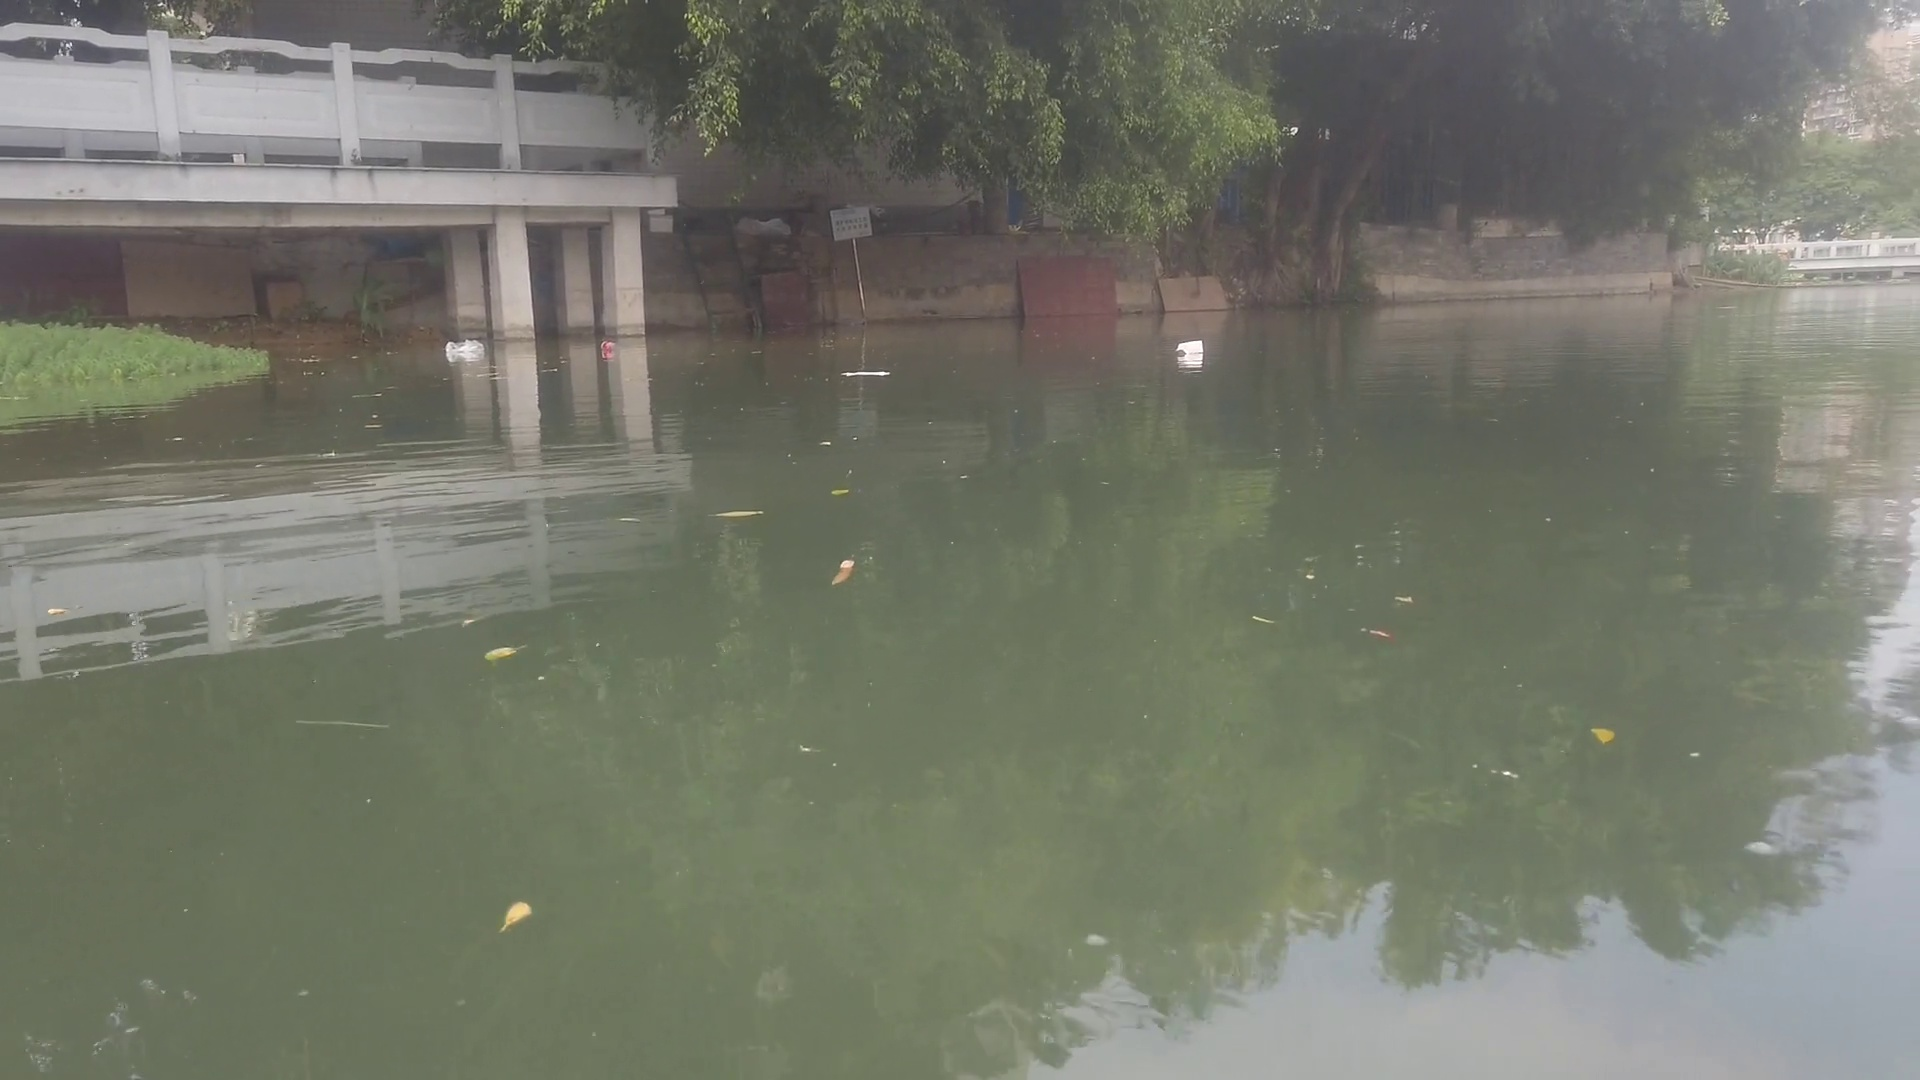bottle: (599, 339, 615, 352)
carton: (1174, 335, 1201, 355)
paper: (837, 364, 894, 378)
plastic: (440, 338, 483, 355)
